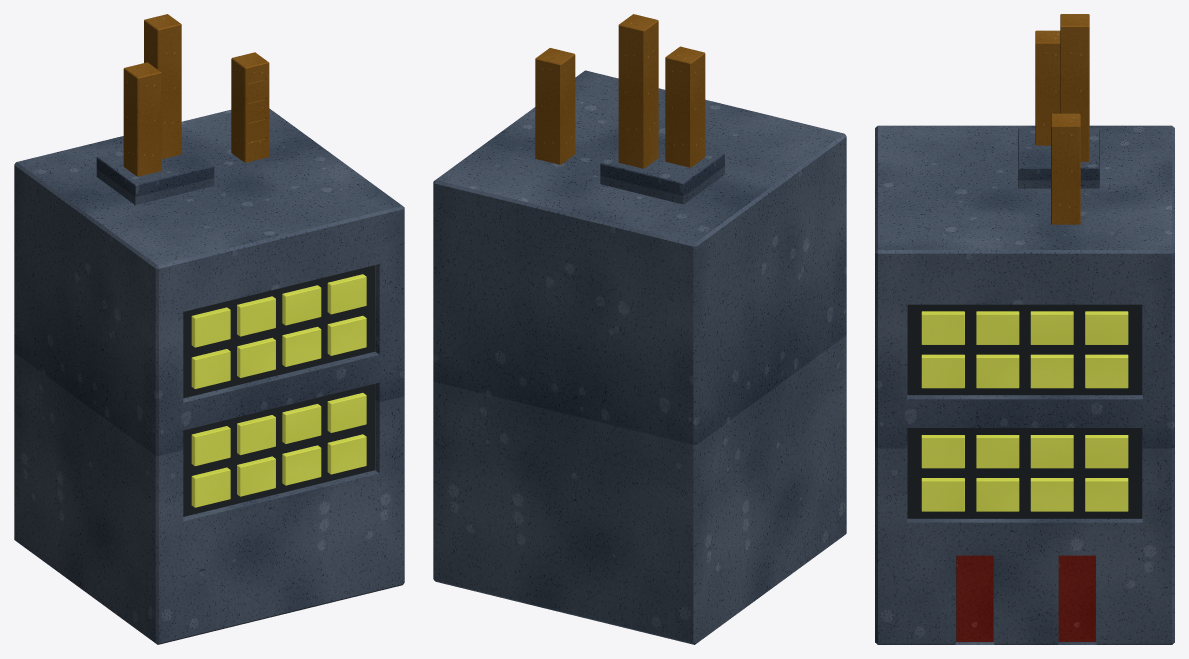
The picture shows the model from 3 angles, left to right: view 1: azimuth 30°, elevation 25°; view 2: azimuth 150°, elevation 25°; view 3: azimuth 270°, elevation 25°; orthographic projection. The views are drawn at different scales.
Visible parts, largest first — view 1: Off-duty Block concrete residential shell, Off-duty Block eight panes front bank 0, Off-duty Block eight panes front bank 1, Off-duty Block front bank 0 backing, Off-duty Block front bank 1 backing, Off-duty Block rectangular brass stack 1, Off-duty Block rectangular brass stack 2, Off-duty Block small paired-stack plinth, Off-duty Block rectangular brass stack 0; view 2: Off-duty Block concrete residential shell, Off-duty Block rectangular brass stack 0, Off-duty Block rectangular brass stack 1, Off-duty Block rectangular brass stack 2, Off-duty Block small paired-stack plinth; view 3: Off-duty Block concrete residential shell, Off-duty Block eight panes right bank 1, Off-duty Block eight panes right bank 0, Off-duty Block right bank 0 backing, Off-duty Block right bank 1 backing, Off-duty Block rectangular brass stack 0, Off-duty Block rectangular brass stack 2, Off-duty Block lower red panel 0, Off-duty Block lower red panel 1, Off-duty Block rectangular brass stack 1, Off-duty Block small paired-stack plinth.
Part boxes in pixels (box(x1,y1,x2,y2)): Off-duty Block concrete residential shell: box(14, 108, 404, 644); Off-duty Block eight panes front bank 0: box(191, 393, 366, 507); Off-duty Block eight panes front bank 1: box(191, 274, 366, 388); Off-duty Block front bank 0 backing: box(183, 384, 374, 516); Off-duty Block front bank 1 backing: box(183, 265, 374, 398); Off-duty Block rectangular brass stack 1: box(123, 62, 161, 176); Off-duty Block rectangular brass stack 2: box(231, 52, 269, 162); Off-duty Block small paired-stack plinth: box(96, 143, 214, 204); Off-duty Block rectangular brass stack 0: box(144, 14, 181, 158); Off-duty Block concrete residential shell: box(433, 70, 846, 644); Off-duty Block rectangular brass stack 0: box(618, 14, 658, 168); Off-duty Block rectangular brass stack 1: box(665, 46, 705, 167); Off-duty Block rectangular brass stack 2: box(535, 48, 575, 164); Off-duty Block small paired-stack plinth: box(600, 137, 724, 204); Off-duty Block concrete residential shell: box(875, 125, 1174, 644); Off-duty Block eight panes right bank 1: box(921, 311, 1128, 388); Off-duty Block eight panes right bank 0: box(921, 435, 1128, 511); Off-duty Block right bank 0 backing: box(907, 428, 1142, 518); Off-duty Block right bank 1 backing: box(907, 304, 1142, 394); Off-duty Block rectangular brass stack 0: box(1060, 14, 1089, 161); Off-duty Block rectangular brass stack 2: box(1051, 113, 1080, 224); Off-duty Block lower red panel 0: box(956, 555, 993, 641); Off-duty Block lower red panel 1: box(1058, 555, 1095, 641); Off-duty Block rectangular brass stack 1: box(1035, 30, 1060, 145); Off-duty Block small paired-stack plinth: box(1018, 128, 1099, 188).
Size of the model in its own units: 1.32 by 2.68 by 1.32.
Materials: 5 (4 with a texture image).
